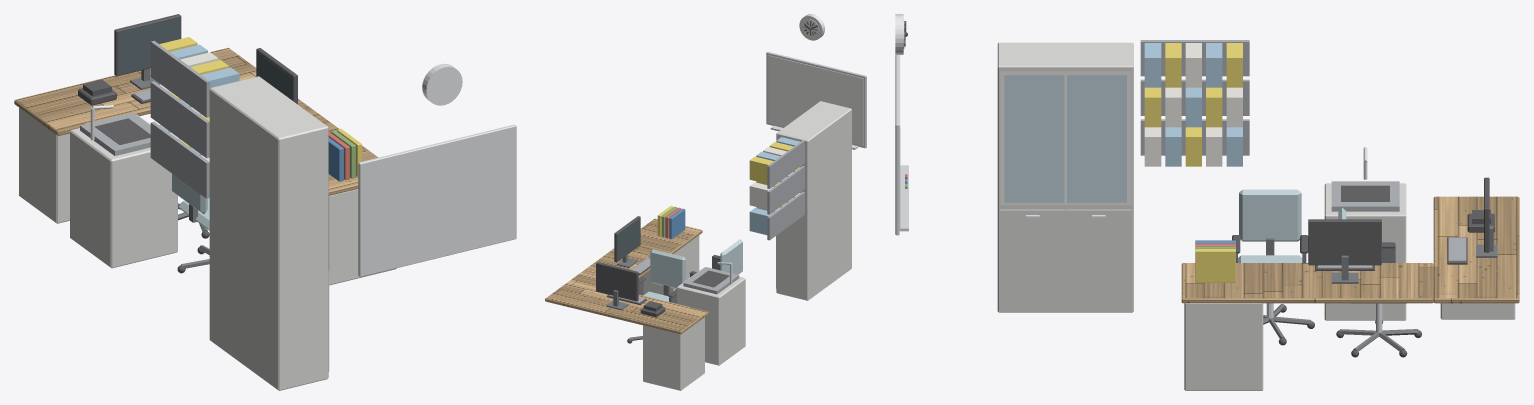
Rendered from nurse_station.glb.
The picture shows the model from 3 angles, left to right: view 1: azimuth 30°, elevation 25°; view 2: azimuth 150°, elevation 25°; view 3: azimuth 270°, elevation 25°; orthographic projection. The views are drawn at different scales.
Parts seen in each view (by area): view 1: nurse_station_cart_w, nurse_station_alu, nurse_station_steel, nurse_station_laminate, nurse_station_dark, nurse_station_screen, nurse_station_chrome, nurse_station_paint_y, nurse_station_vinyl_b, nurse_station_blue_l, nurse_station_steel_d, nurse_station_blue; view 2: nurse_station_cart_w, nurse_station_laminate, nurse_station_paint_w, nurse_station_steel, nurse_station_dark, nurse_station_vinyl_b, nurse_station_alu, nurse_station_paint_y, nurse_station_blue_l, nurse_station_steel_d, nurse_station_paper, nurse_station_screen (+2 smaller); view 3: nurse_station_cart_w, nurse_station_laminate, nurse_station_glass, nurse_station_dark, nurse_station_steel, nurse_station_paint_y, nurse_station_vinyl_b, nurse_station_blue_l, nurse_station_paper, nurse_station_frame, nurse_station_steel_d, nurse_station_alu (+1 smaller).
Part boxes in pixels (bbox=[...]): nurse_station_cart_w: bbox=[19, 76, 396, 390]; nurse_station_alu: bbox=[358, 124, 516, 276]; nurse_station_steel: bbox=[80, 40, 210, 198]; nurse_station_laminate: bbox=[14, 47, 378, 195]; nurse_station_dark: bbox=[78, 14, 297, 273]; nurse_station_screen: bbox=[119, 18, 291, 99]; nurse_station_chrome: bbox=[90, 63, 462, 140]; nurse_station_paint_y: bbox=[159, 37, 361, 177]; nurse_station_vinyl_b: bbox=[172, 174, 209, 230]; nurse_station_blue_l: bbox=[159, 44, 239, 155]; nurse_station_steel_d: bbox=[130, 68, 209, 268]; nurse_station_blue: bbox=[328, 137, 343, 181]; nurse_station_cart_w: bbox=[642, 101, 851, 390]; nurse_station_laminate: bbox=[545, 218, 708, 334]; nurse_station_paint_w: bbox=[768, 55, 863, 145]; nurse_station_steel: bbox=[609, 140, 804, 302]; nurse_station_dark: bbox=[596, 21, 818, 343]; nurse_station_vinyl_b: bbox=[643, 239, 742, 301]; nurse_station_alu: bbox=[766, 51, 866, 149]; nurse_station_paint_y: bbox=[657, 142, 800, 236]; nurse_station_blue_l: bbox=[749, 137, 800, 234]; nurse_station_steel_d: bbox=[606, 255, 720, 340]; nurse_station_paper: bbox=[749, 147, 800, 212]; nurse_station_screen: bbox=[618, 219, 640, 260]; nurse_station_cart_w: bbox=[997, 42, 1515, 390]; nurse_station_laminate: bbox=[1181, 196, 1519, 303]; nurse_station_glass: bbox=[1004, 75, 1126, 202]; nurse_station_dark: bbox=[904, 21, 1494, 357]; nurse_station_steel: bbox=[1140, 40, 1466, 268]; nurse_station_paint_y: bbox=[1144, 43, 1242, 282]; nurse_station_vinyl_b: bbox=[1238, 189, 1406, 303]; nurse_station_blue_l: bbox=[1144, 43, 1242, 166]; nurse_station_paper: bbox=[1144, 43, 1242, 166]; nurse_station_frame: bbox=[1000, 71, 1131, 204]; nurse_station_steel_d: bbox=[1236, 226, 1497, 351]; nurse_station_alu: bbox=[895, 55, 908, 235].
Size of the model in its own units: 1.8 by 2.65 by 4.58.
Materials: 21 (1 with a texture image).
